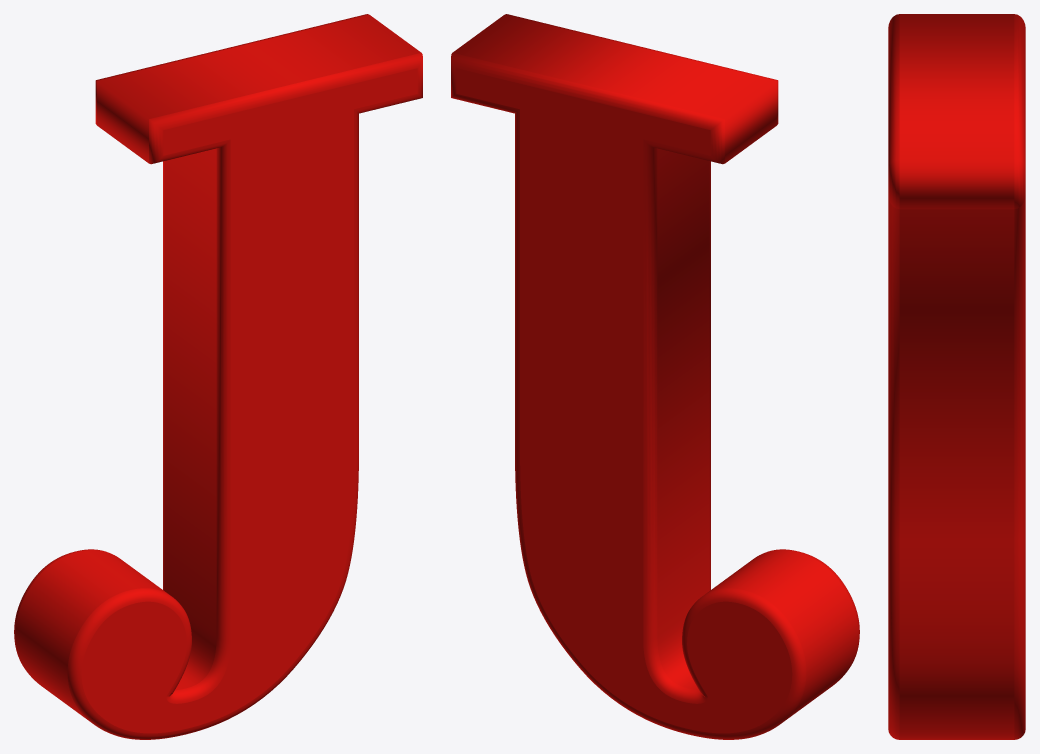
Rendered from capital_j.fbx.
3 renders of one model, left to right at view 1: azimuth 30°, elevation 25°; view 2: azimuth 150°, elevation 25°; view 3: azimuth 270°, elevation 25°, orthographic. The views are drawn at different scales.
Visible parts, largest first — view 1: Text; view 2: Text; view 3: Text.
Boxes of the visible parts, bbox=[...] form: Text: bbox=[14, 14, 422, 739]; Text: bbox=[451, 14, 859, 739]; Text: bbox=[888, 14, 1025, 739].
Bounding box in the file's own units: 150 × 253 × 45.93.
